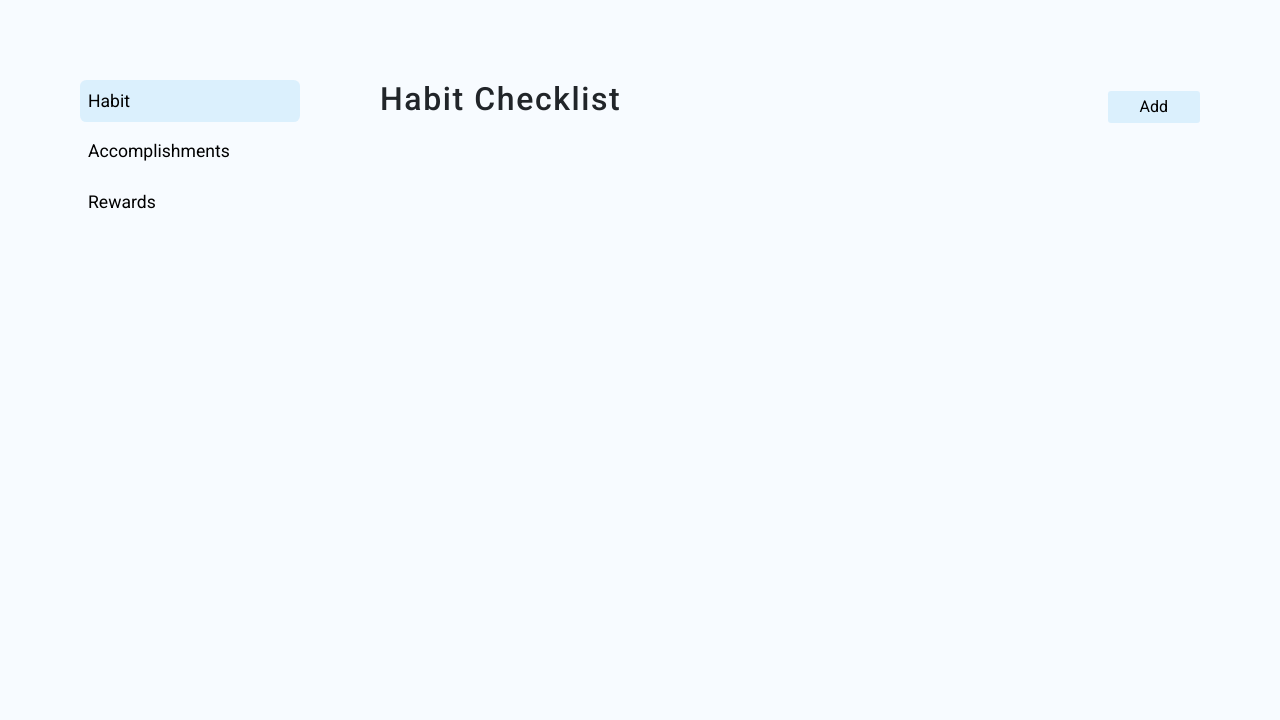
Habit dashboard › should display modal when 'Add' button is clicked
What coordinates should you click on to do the following:
click the button "Add"
I would click on:
 (1155, 107)
Its box is [1108, 91, 1201, 123].
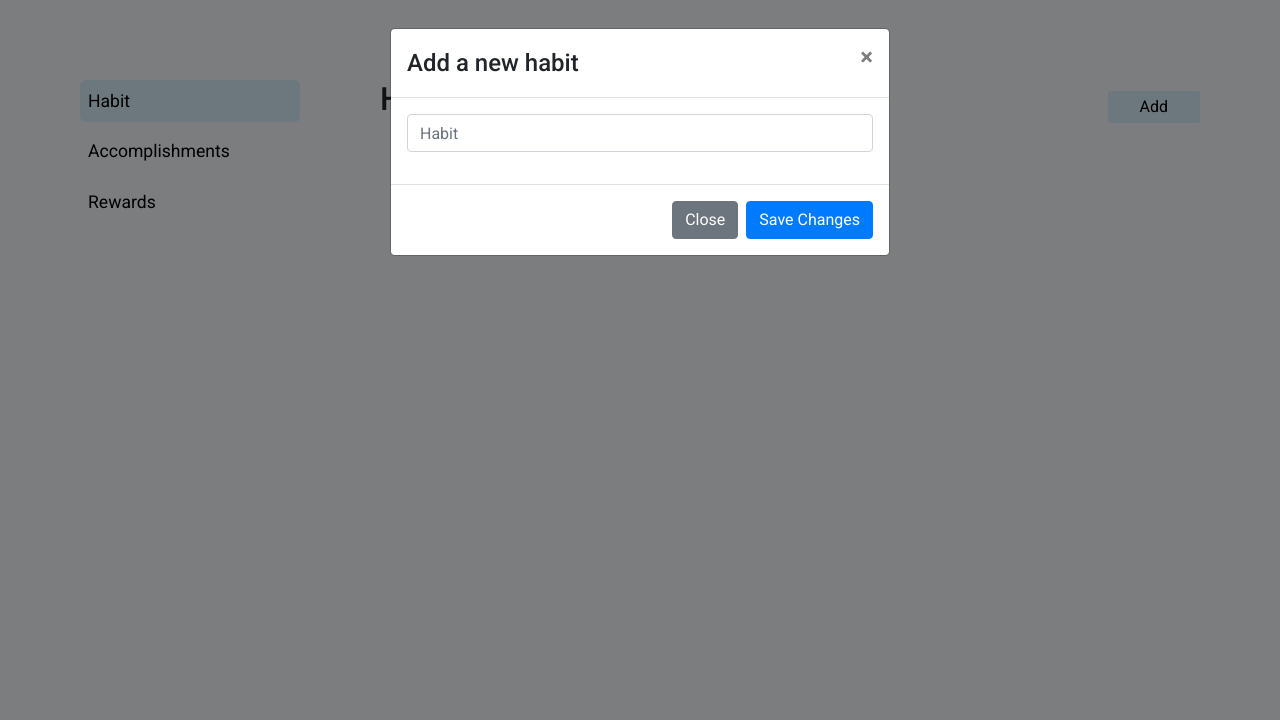
Now the text "Add a new habit" is shown, box [407, 45, 579, 81]
